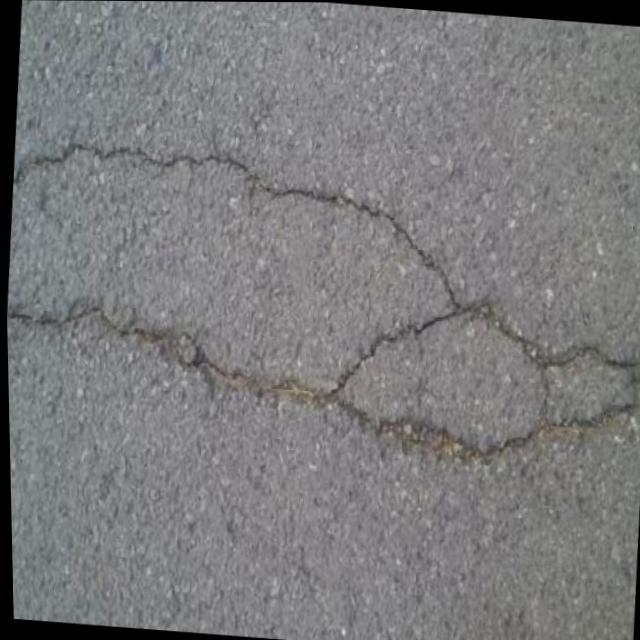Crack: (2, 101, 640, 508)
